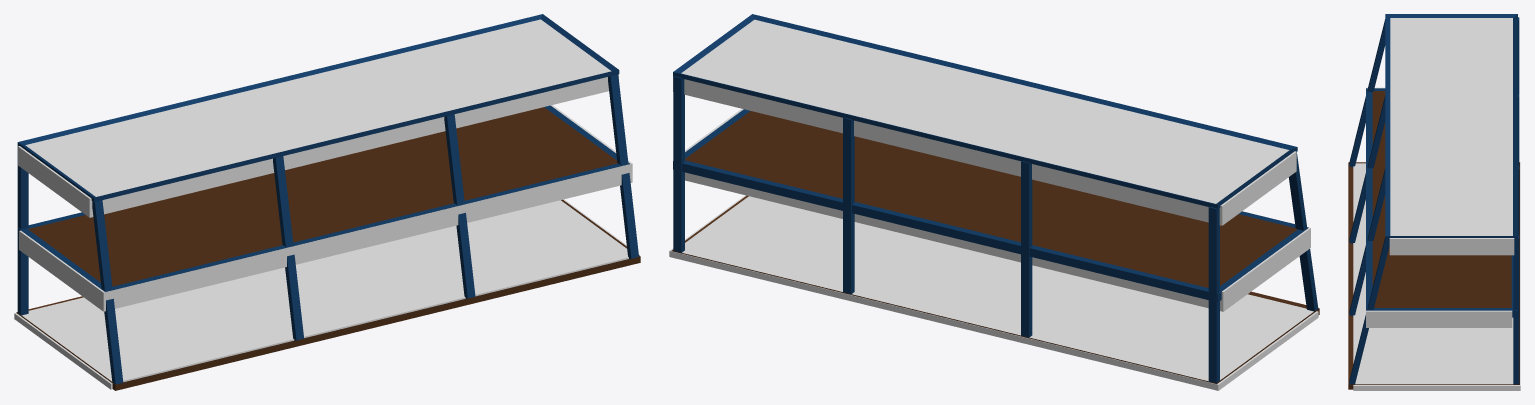
The model's file is big_shelves_MeshReady.fbx.
3 renders of one model, left to right at view 1: azimuth 30°, elevation 25°; view 2: azimuth 150°, elevation 25°; view 3: azimuth 270°, elevation 25°, orthographic. The views are drawn at different scales.
Parts seen in each view (by area): view 1: big_shelves_mesh, big_shelves; view 2: big_shelves_mesh, big_shelves; view 3: big_shelves_mesh, big_shelves.
Boxes of the visible parts, bbox=[...] form: big_shelves_mesh: bbox=[14, 19, 639, 389]; big_shelves: bbox=[16, 14, 640, 390]; big_shelves_mesh: bbox=[669, 19, 1318, 390]; big_shelves: bbox=[671, 14, 1319, 383]; big_shelves_mesh: bbox=[1353, 18, 1520, 390]; big_shelves: bbox=[1348, 14, 1519, 389].
Size of the model in its own units: 617 by 198 by 201.
